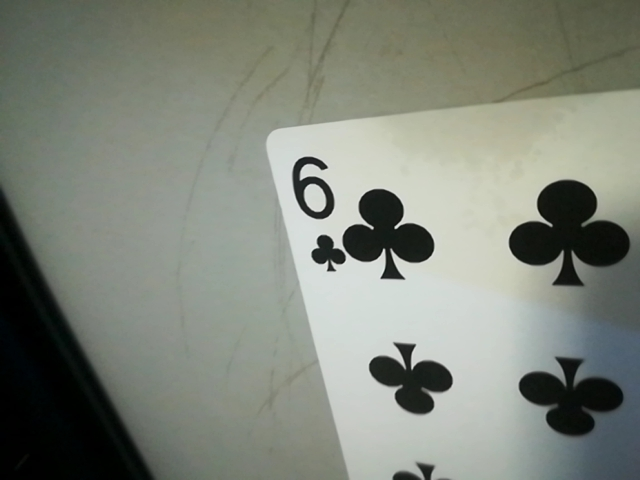mh 6: (282, 146, 348, 280)
